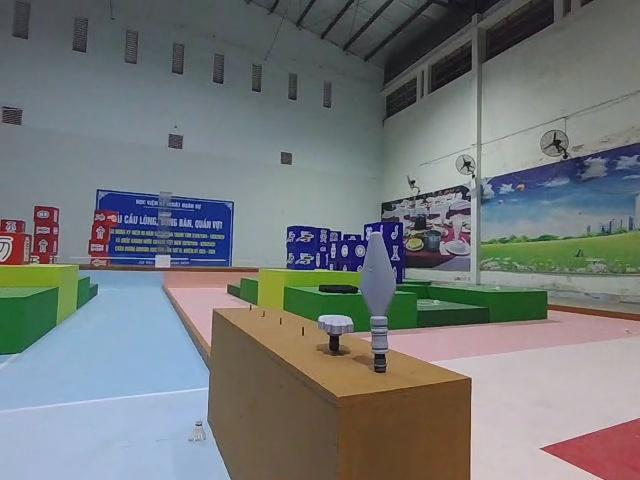Hand: (315, 313, 353, 352)
Sph: (357, 230, 397, 375)
